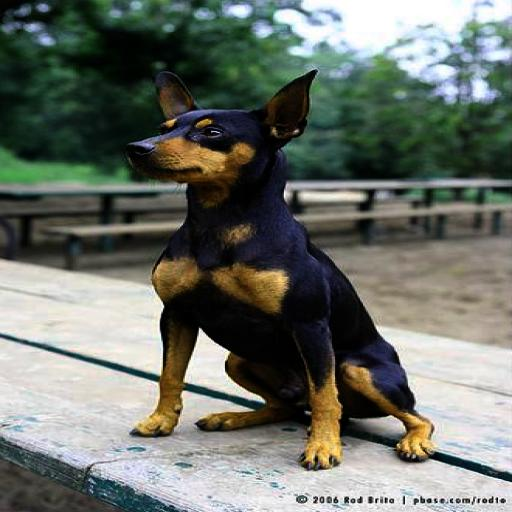dog_face: (125, 74, 317, 194)
